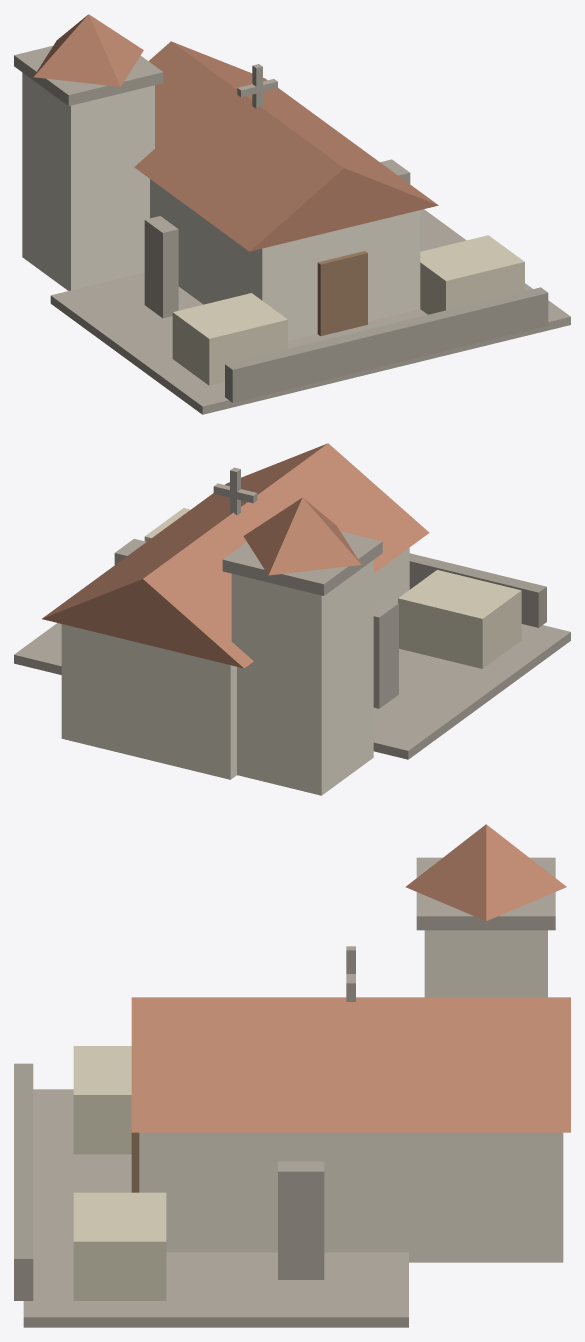
Rendered from independence_chapel_lod0.glb.
The picture shows the model from 3 angles, top to bottom: view 1: azimuth 30°, elevation 25°; view 2: azimuth 150°, elevation 25°; view 3: azimuth 270°, elevation 25°; orthographic projection. The views are drawn at different scales.
Parts seen in each view (by area): view 1: independence_chapel; view 2: independence_chapel; view 3: independence_chapel.
Boxes of the visible parts, bbox=[...] form: independence_chapel: bbox=[14, 14, 570, 414]; independence_chapel: bbox=[14, 443, 570, 795]; independence_chapel: bbox=[14, 824, 570, 1327].
Size of the model in its own units: 14 by 9.1 by 14.45.
